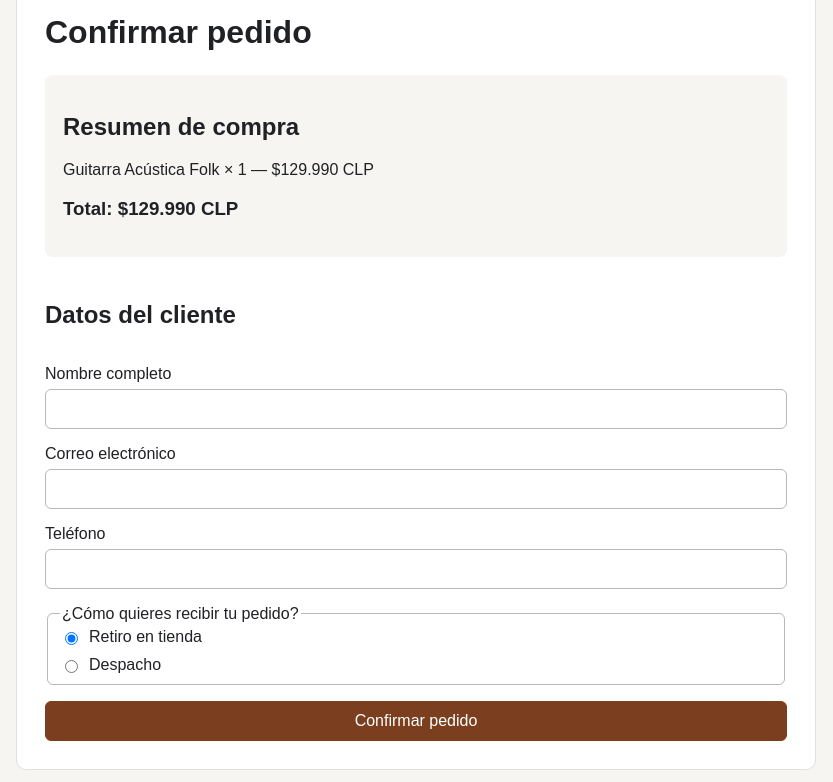
Test: Checkout › pide dirección al elegir despacho y la oculta al elegir retiro
(page scrolled)
Click the radio button labelled "Despacho" at (72, 667), box [65, 659, 78, 674]
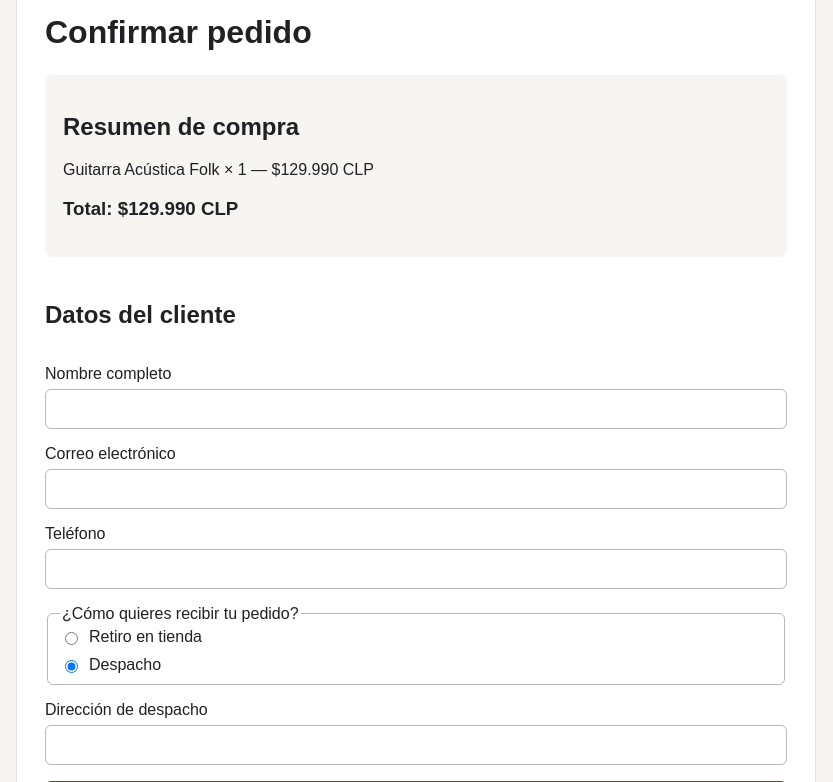
Click the radio button labelled "Retiro en tienda" at (72, 639), box [65, 631, 78, 646]
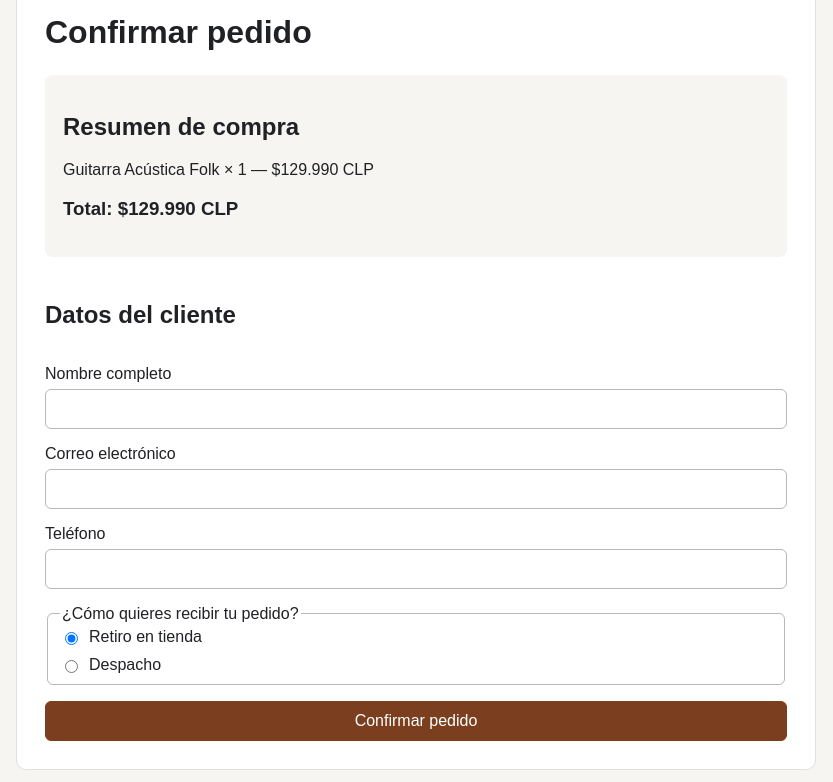
Expected: the label labelled "Dirección de despacho" is gone
